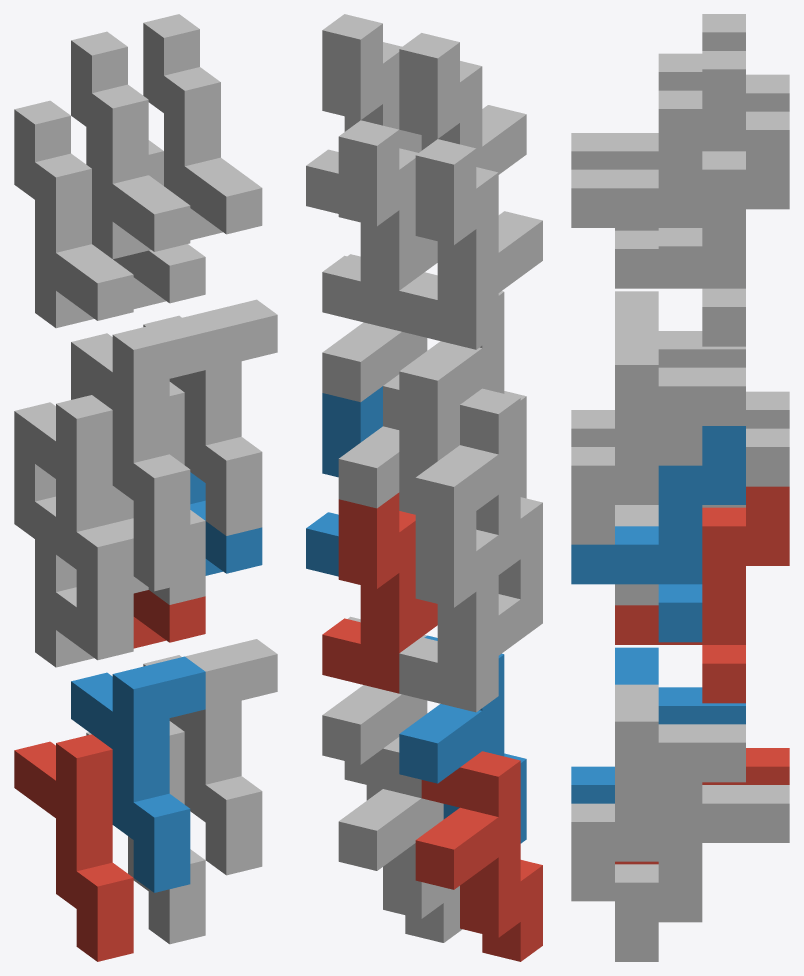
The model's file is tiling.obj.
3 renders of one model, left to right at view 1: azimuth 30°, elevation 25°; view 2: azimuth 150°, elevation 25°; view 3: azimuth 270°, elevation 25°, orthographic. The views are drawn at different scales.
Parts seen in each view (by area): view 1: copy_1_domain_4, copy_1_domain_2, copy_1_domain_1, copy_1_domain_3, copy_2_domain_3, copy_2_domain_4, copy_1_domain_6, copy_1_domain_8, copy_2_domain_8, copy_2_domain_1, copy_1_domain_5, copy_2_domain_7 (+4 smaller); view 2: copy_2_domain_3, copy_1_domain_1, copy_2_domain_1, copy_2_domain_7, copy_1_domain_3, copy_2_domain_5, copy_1_domain_5, copy_2_domain_4, copy_2_domain_8, copy_1_domain_2, copy_1_domain_4, copy_1_domain_6 (+4 smaller); view 3: copy_2_domain_8, copy_1_domain_6, copy_1_domain_8, copy_2_domain_6, copy_2_domain_7, copy_1_domain_5, copy_2_domain_5, copy_2_domain_4, copy_1_domain_7, copy_1_domain_2, copy_1_domain_4, copy_2_domain_3 (+2 smaller).
Part boxes in pixels (x1=…): copy_1_domain_4: x1=71, y1=317, x2=205, y2=553; copy_1_domain_2: x1=71, y1=656, x2=205, y2=892; copy_1_domain_1: x1=14, y1=734, x2=133, y2=961; copy_1_domain_3: x1=14, y1=395, x2=133, y2=622; copy_2_domain_3: x1=14, y1=100, x2=133, y2=328; copy_2_domain_4: x1=71, y1=31, x2=190, y2=258; copy_1_domain_6: x1=143, y1=639, x2=277, y2=875; copy_1_domain_8: x1=143, y1=299, x2=277, y2=535; copy_2_domain_8: x1=143, y1=14, x2=262, y2=240; copy_2_domain_1: x1=14, y1=449, x2=133, y2=667; copy_1_domain_5: x1=86, y1=721, x2=205, y2=944; copy_2_domain_7: x1=86, y1=127, x2=205, y2=308; copy_2_domain_3: x1=399, y1=139, x2=542, y2=349; copy_1_domain_1: x1=415, y1=751, x2=542, y2=961; copy_2_domain_1: x1=399, y1=511, x2=542, y2=712; copy_2_domain_7: x1=322, y1=120, x2=437, y2=330; copy_1_domain_3: x1=415, y1=388, x2=542, y2=599; copy_2_domain_5: x1=322, y1=492, x2=437, y2=693; copy_1_domain_5: x1=338, y1=737, x2=462, y2=942; copy_2_domain_4: x1=399, y1=33, x2=526, y2=174; copy_2_domain_8: x1=306, y1=14, x2=421, y2=213; copy_1_domain_2: x1=399, y1=635, x2=526, y2=843; copy_1_domain_4: x1=399, y1=273, x2=526, y2=480; copy_1_domain_6: x1=322, y1=616, x2=427, y2=800; copy_2_domain_8: x1=571, y1=51, x2=745, y2=285; copy_1_domain_6: x1=571, y1=684, x2=745, y2=901; copy_1_domain_8: x1=571, y1=328, x2=745, y2=544; copy_2_domain_6: x1=571, y1=426, x2=745, y2=642; copy_2_domain_7: x1=615, y1=111, x2=789, y2=346; copy_1_domain_5: x1=615, y1=782, x2=789, y2=961; copy_2_domain_5: x1=615, y1=486, x2=789, y2=703; copy_2_domain_4: x1=571, y1=14, x2=745, y2=169; copy_1_domain_7: x1=615, y1=426, x2=789, y2=605; copy_1_domain_2: x1=571, y1=647, x2=745, y2=803; copy_1_domain_4: x1=571, y1=291, x2=745, y2=446; copy_2_domain_3: x1=615, y1=74, x2=789, y2=230.
Bounding box in the file's own units: 5 × 23 × 5.
